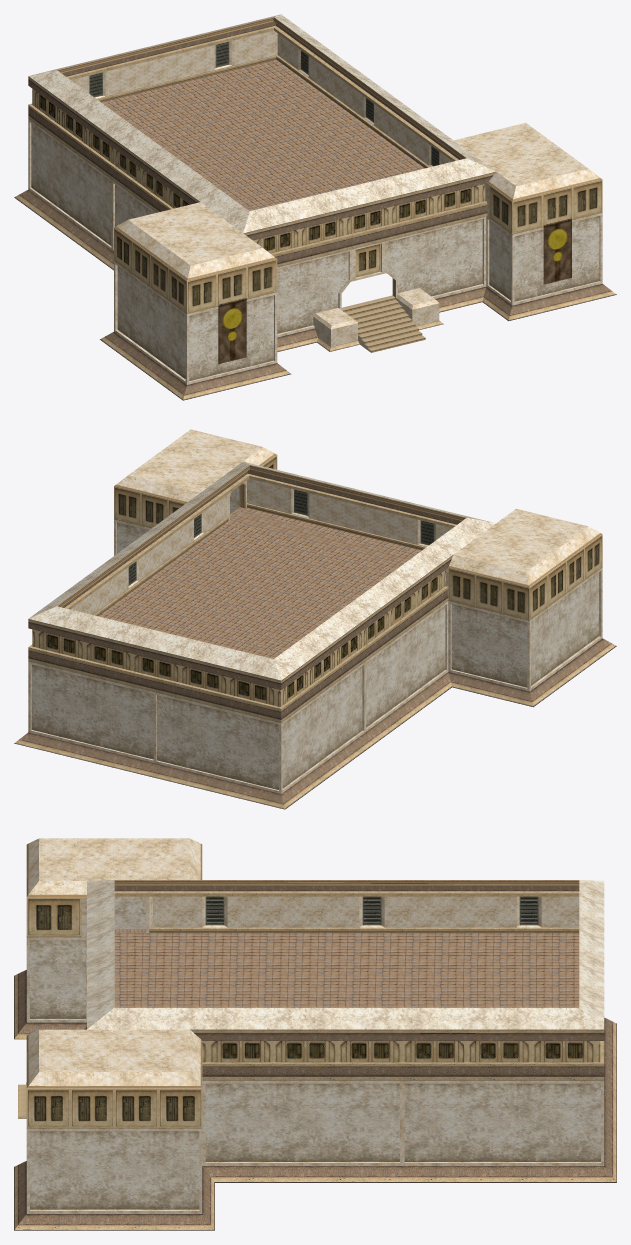
File: thm_tato_assoc_hall_civ_s01_r0_exterior_mesh_exterior_l0.fbx
The picture shows the model from 3 angles, top to bottom: view 1: azimuth 30°, elevation 25°; view 2: azimuth 150°, elevation 25°; view 3: azimuth 270°, elevation 25°; orthographic projection. The views are drawn at different scales.
Parts seen in each view (by area): view 1: mesh_node; view 2: mesh_node; view 3: mesh_node.
Boxes of the visible parts, bbox=[...] form: mesh_node: bbox=[14, 14, 616, 400]; mesh_node: bbox=[14, 429, 616, 809]; mesh_node: bbox=[14, 838, 616, 1230].
Bounding box in the file's own units: 48 × 14 × 48.
